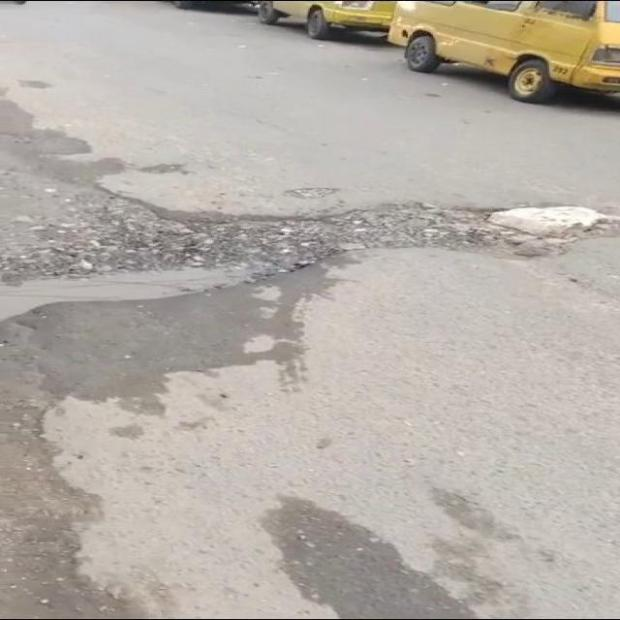lubang: (0, 197, 619, 321)
